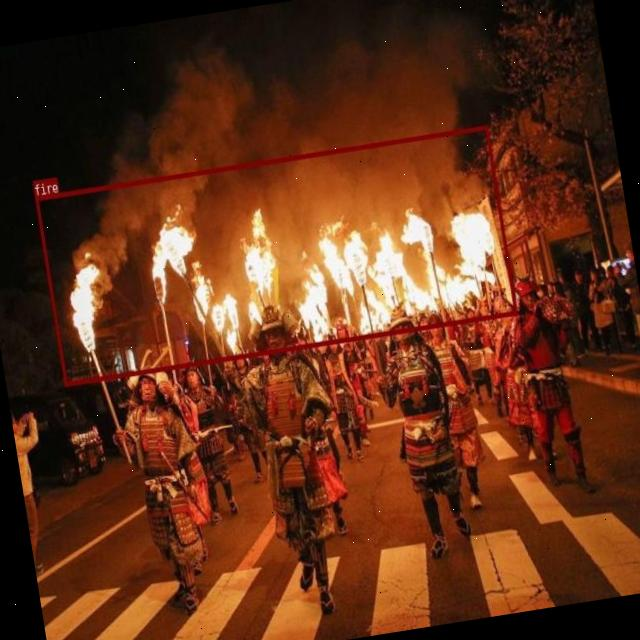fire: (35, 126, 518, 386)
